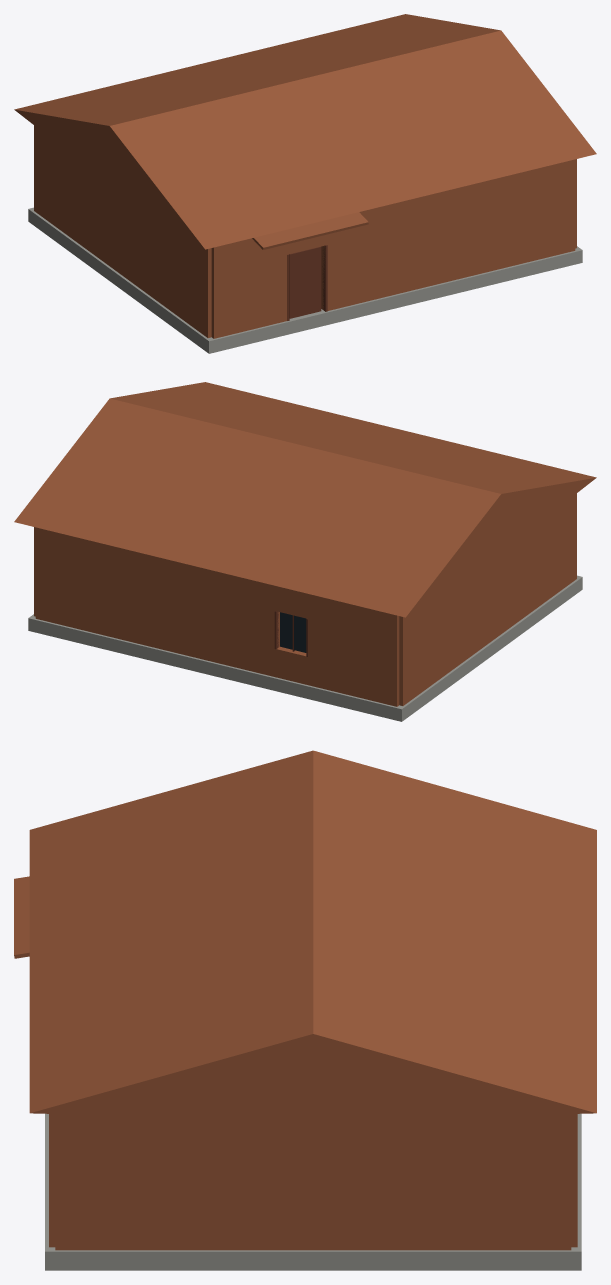
The model's file is FM_Workshop_Damaged_01.glb.
3 renders of one model, top to bottom at view 1: azimuth 30°, elevation 25°; view 2: azimuth 150°, elevation 25°; view 3: azimuth 270°, elevation 25°, orthographic. The views are drawn at different scales.
Visible parts, largest first — view 1: FM_Workshop_Damaged_01; view 2: FM_Workshop_Damaged_01; view 3: FM_Workshop_Damaged_01.
Boxes of the visible parts, left/top/right/bottom form: FM_Workshop_Damaged_01: left=14, top=14, right=596, bottom=353; FM_Workshop_Damaged_01: left=14, top=382, right=596, bottom=721; FM_Workshop_Damaged_01: left=14, top=750, right=596, bottom=1270.
Bounding box in the file's own units: 13 × 5.2 × 11.3.
Materials: 1 (1 with a texture image).
